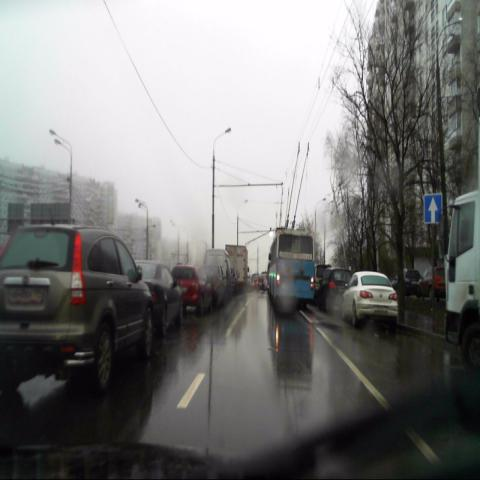5_5: (423, 193, 443, 225)
